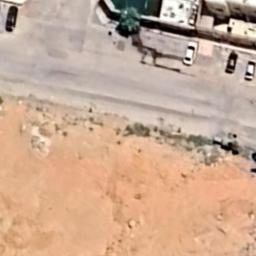sedan: (182, 40, 198, 66), (4, 4, 18, 32), (224, 50, 239, 76), (242, 59, 256, 80)
